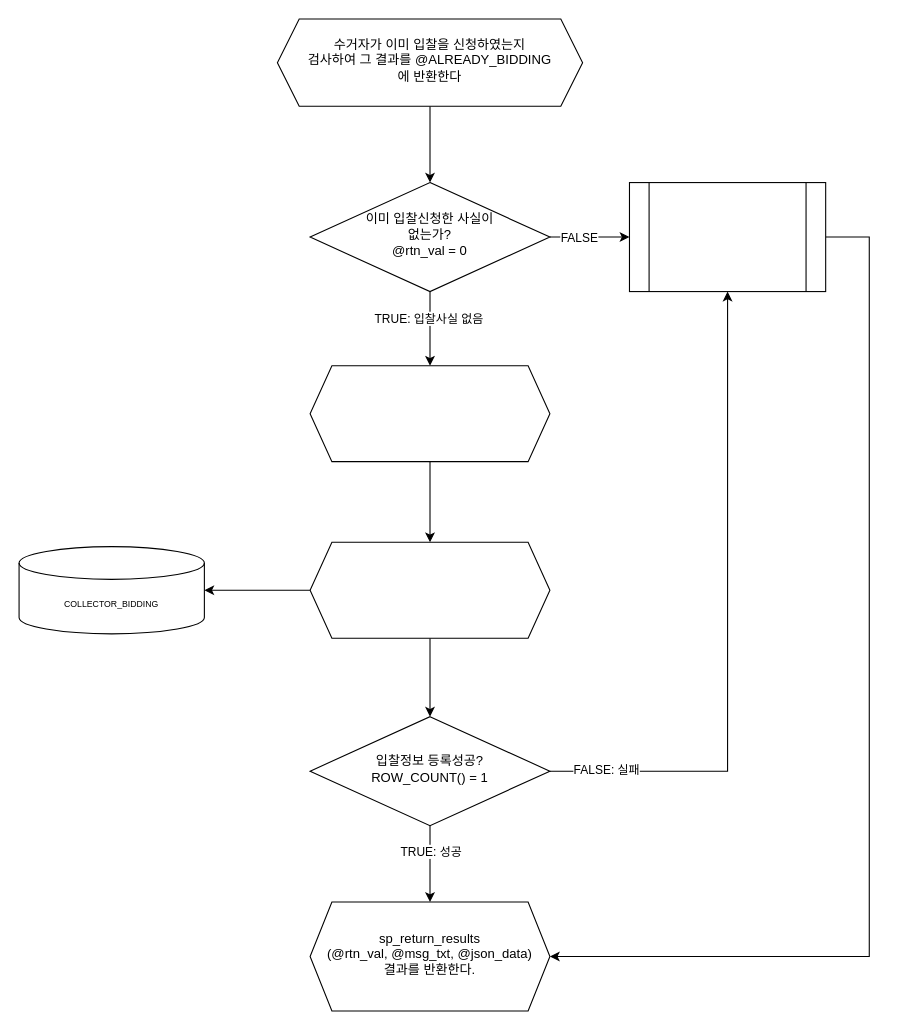
Some shapes in this 897 by 1030 pixel diagram are drawn without their labels. Here are the shapes that lost their labels. From the top down, the centre of each, then its label:
At [727,236]: "EXCEPTION HANDLER SQLSTATE 23000".
At [429,413]: "sp_req_collect_bidding_max_id 수거자의 입찰등록번호를 구하여 @COLLECTOR_BIDDING_ID에 반환한다.".
At [429,589]: "수거자의 입찰정보를 등록함 (INSERT)".
